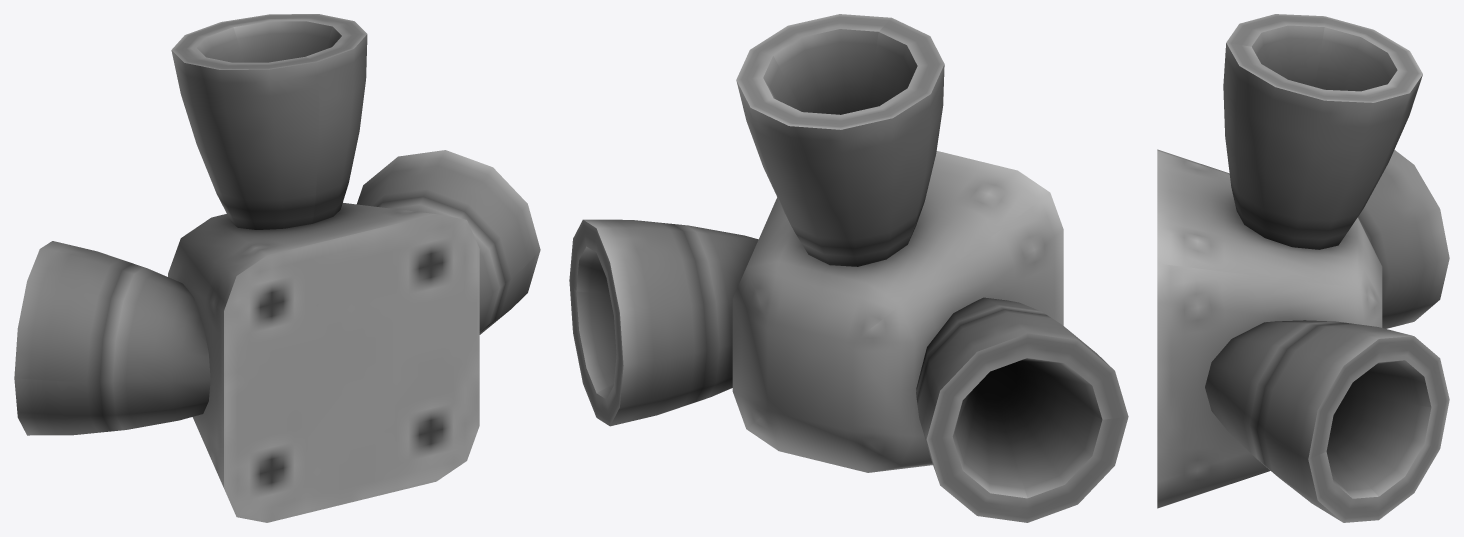
The model's file is rcs3_45.fbx.
3 views of the same model, side by side, from view 1: azimuth 30°, elevation 25°; view 2: azimuth 150°, elevation 25°; view 3: azimuth 270°, elevation 25° (orthographic). The views are drawn at different scales.
Parts seen in each view (by area): view 1: mesh; view 2: mesh; view 3: mesh.
Part boxes in pixels (left/top/right/bottom): mesh: left=14, top=14, right=540, bottom=522; mesh: left=569, top=14, right=1128, bottom=522; mesh: left=1157, top=14, right=1449, bottom=522.
Bounding box in the file's own units: 0.1544 × 0.1165 × 0.0731.
Materials: 1 (1 with a texture image).
